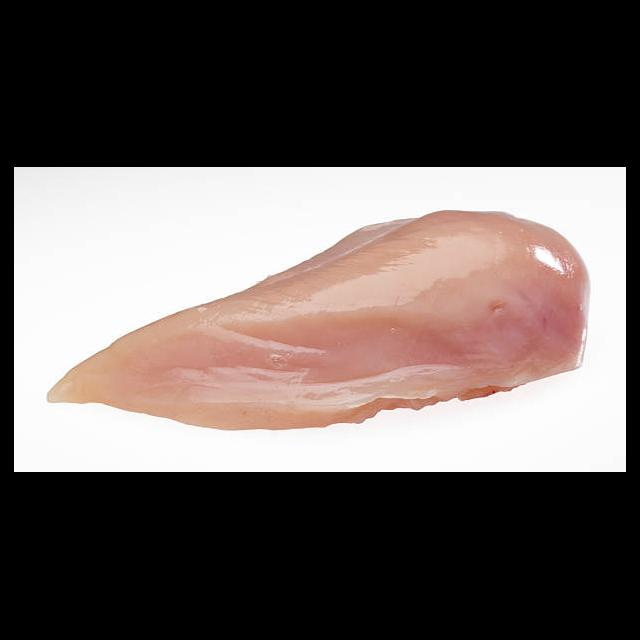chicken: (46, 206, 592, 432)
